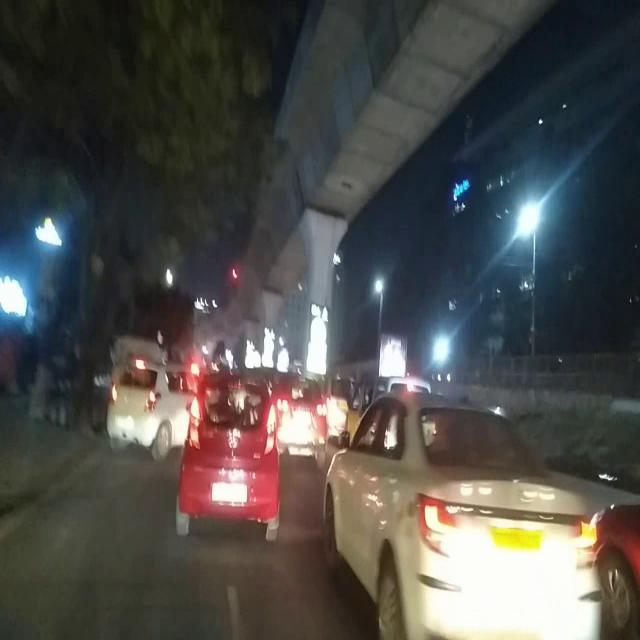car: (323, 388, 601, 640), (178, 374, 282, 544), (108, 358, 185, 458), (281, 368, 322, 465)
road: (0, 455, 378, 640)
sidewalk: (0, 414, 72, 512)
